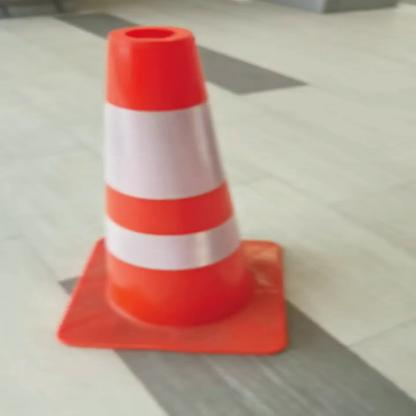cone: (38, 20, 315, 360)
